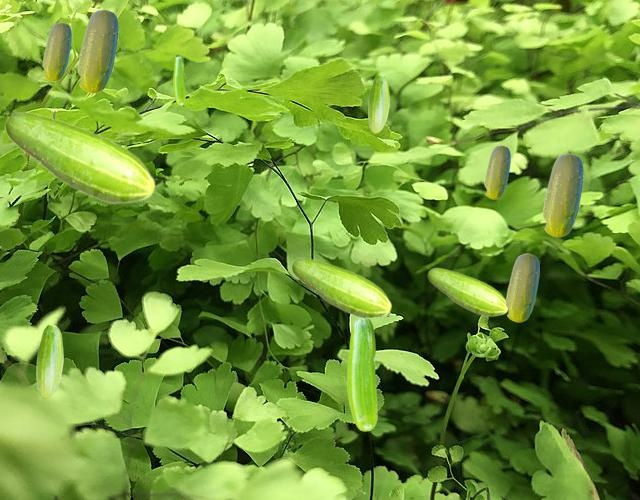cucumber: (4, 111, 155, 204), (291, 257, 391, 318), (427, 267, 507, 316), (77, 9, 117, 92), (542, 153, 582, 236), (347, 318, 376, 430), (505, 253, 538, 321), (36, 324, 62, 397), (42, 22, 70, 80), (484, 145, 509, 198), (368, 74, 388, 132), (173, 56, 184, 104)
